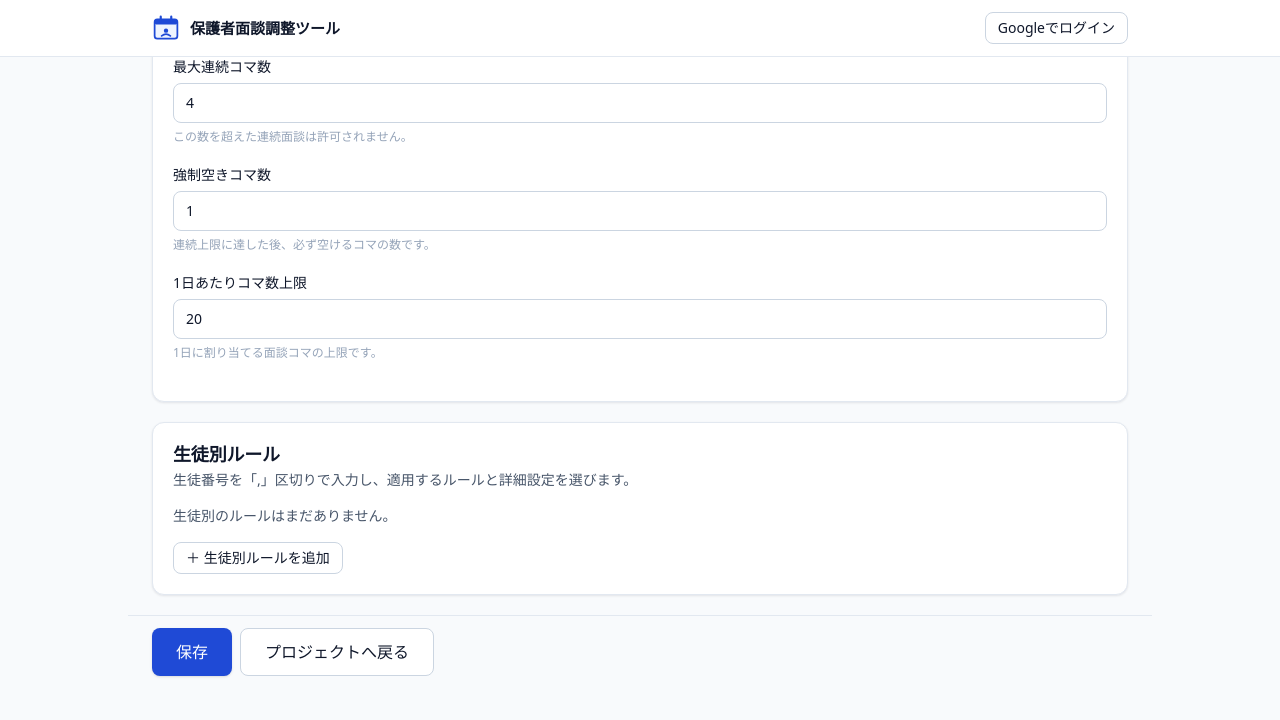
Test: ProjectRulesPage 生徒番号の範囲チェック › プロジェクトに存在しない生徒番号はエラーにして保存しない
The image size is (1280, 720).
(page scrolled)
Click the button "＋ 生徒別ルールを追加": {"x": 258, "y": 558} [173,542,343,574]
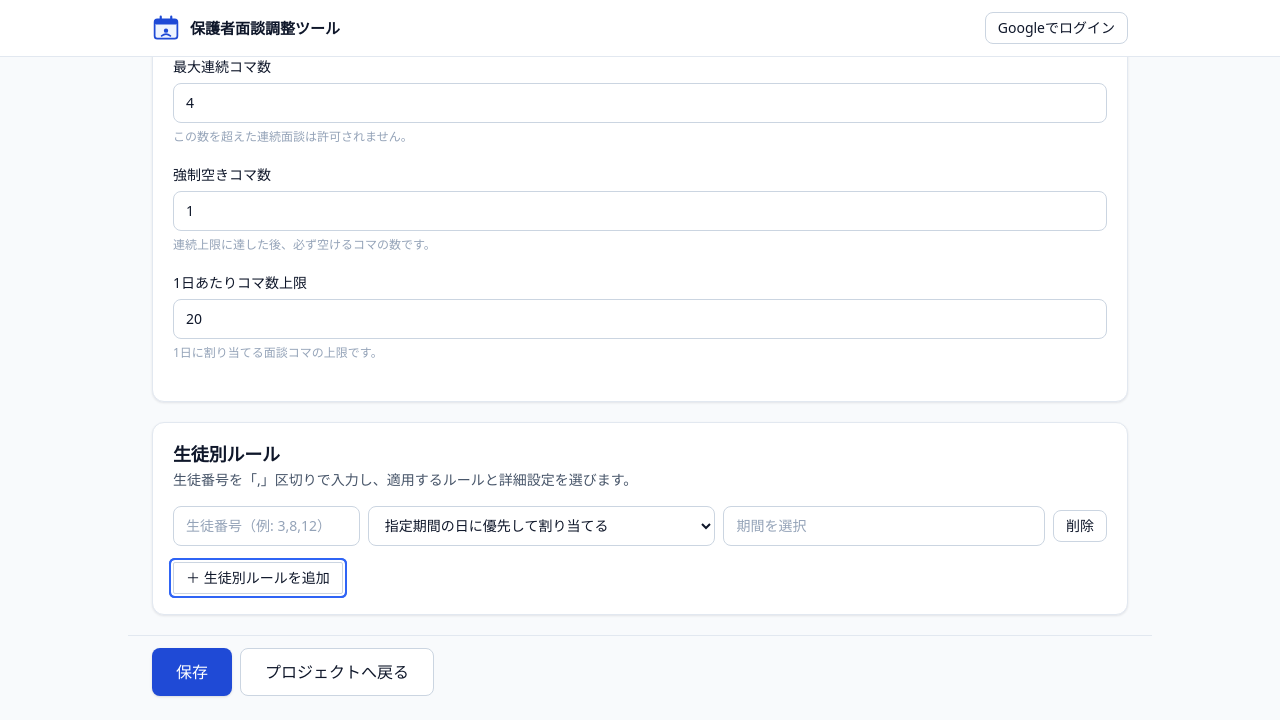
In the field named "1行目 生徒番号（カンマ区切り）": {"x": 266, "y": 526} [173,506,360,546], type "2,99"
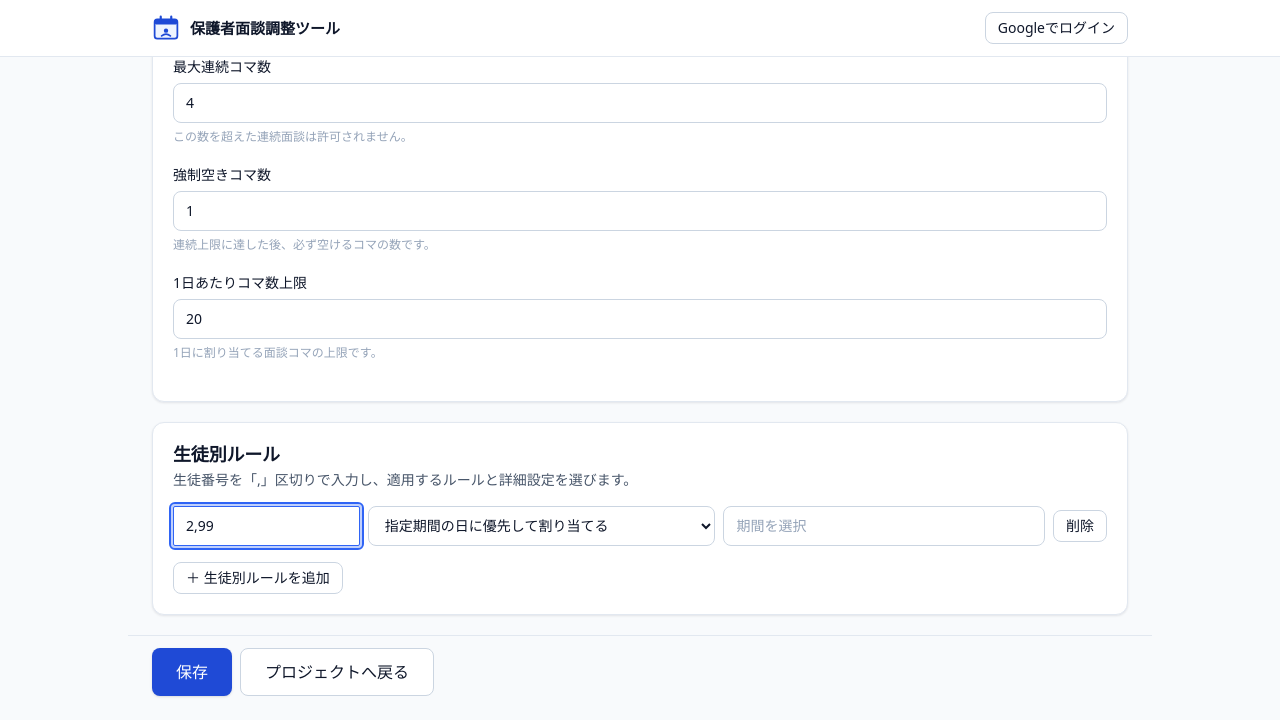
Click the button with aria-label "1行目 優先期間": {"x": 771, "y": 525} [723,506,1045,546]
(page scrolled)
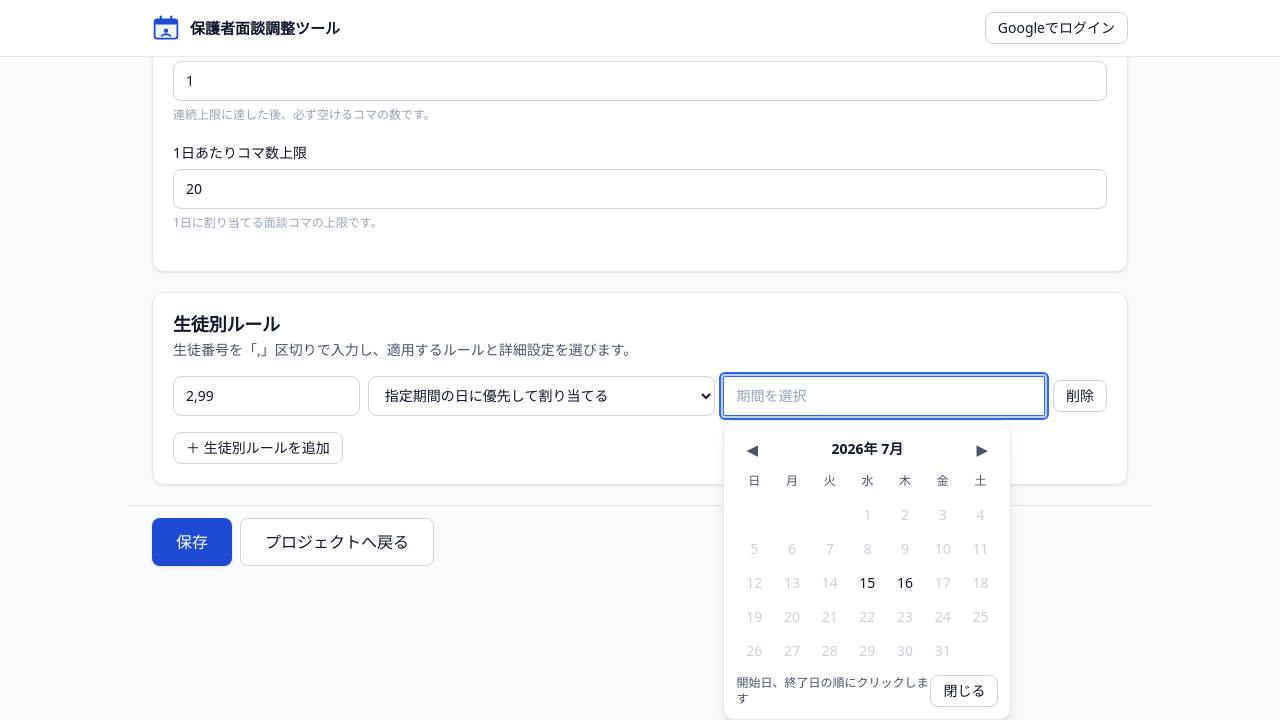
Click the button named "2026-07-15": {"x": 867, "y": 583} [850,567,885,599]
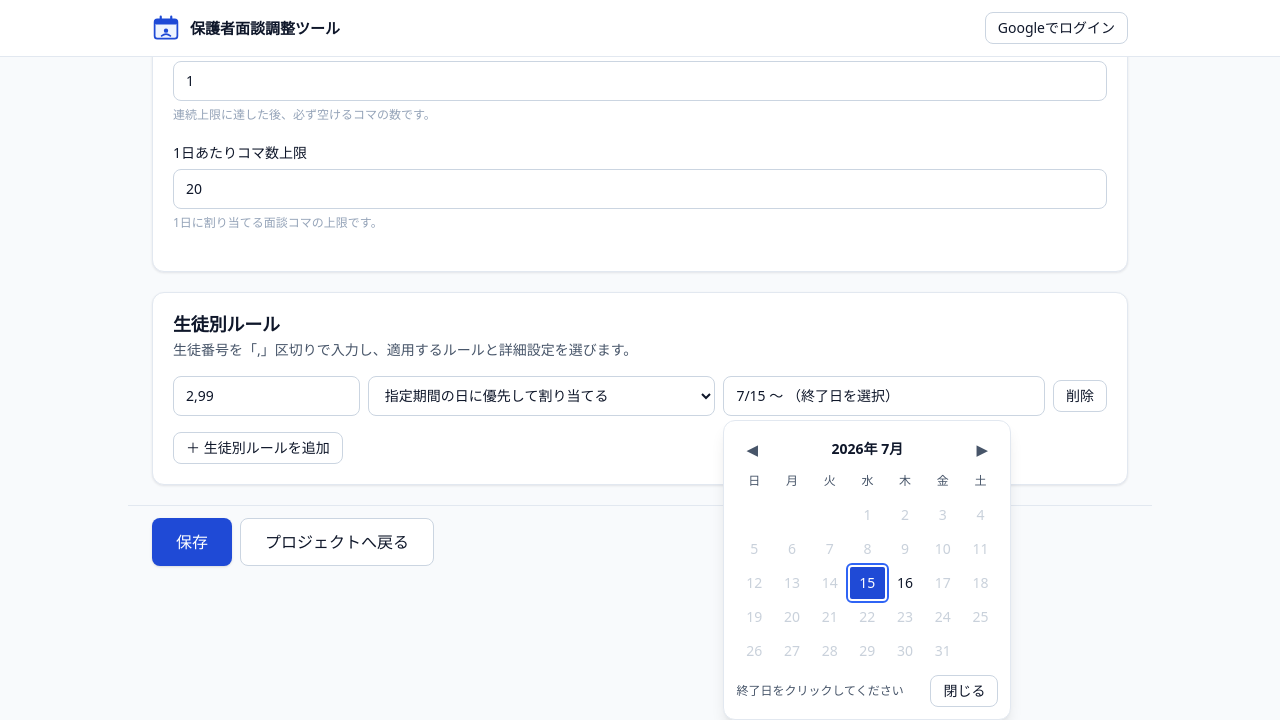
Click the button named "2026-07-16": {"x": 905, "y": 583} [887,567,923,599]
(page scrolled)
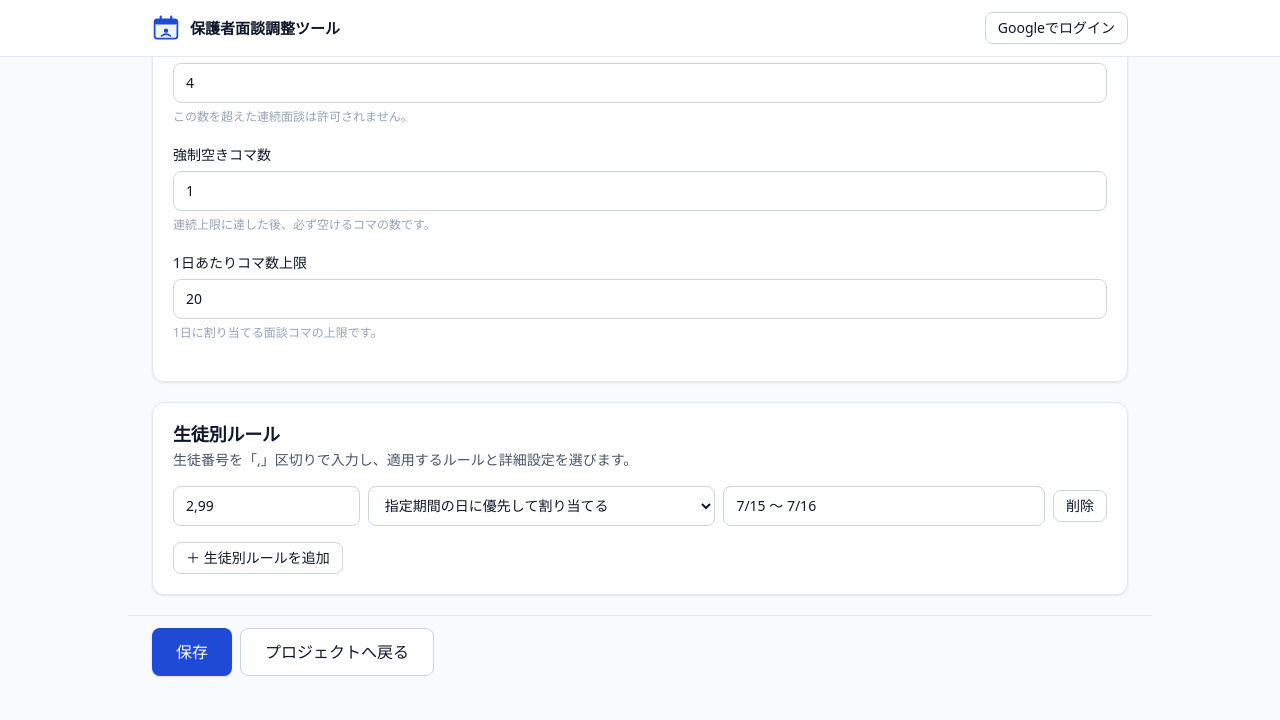
Click the button "保存": {"x": 192, "y": 652} [152,628,232,676]
(page scrolled)
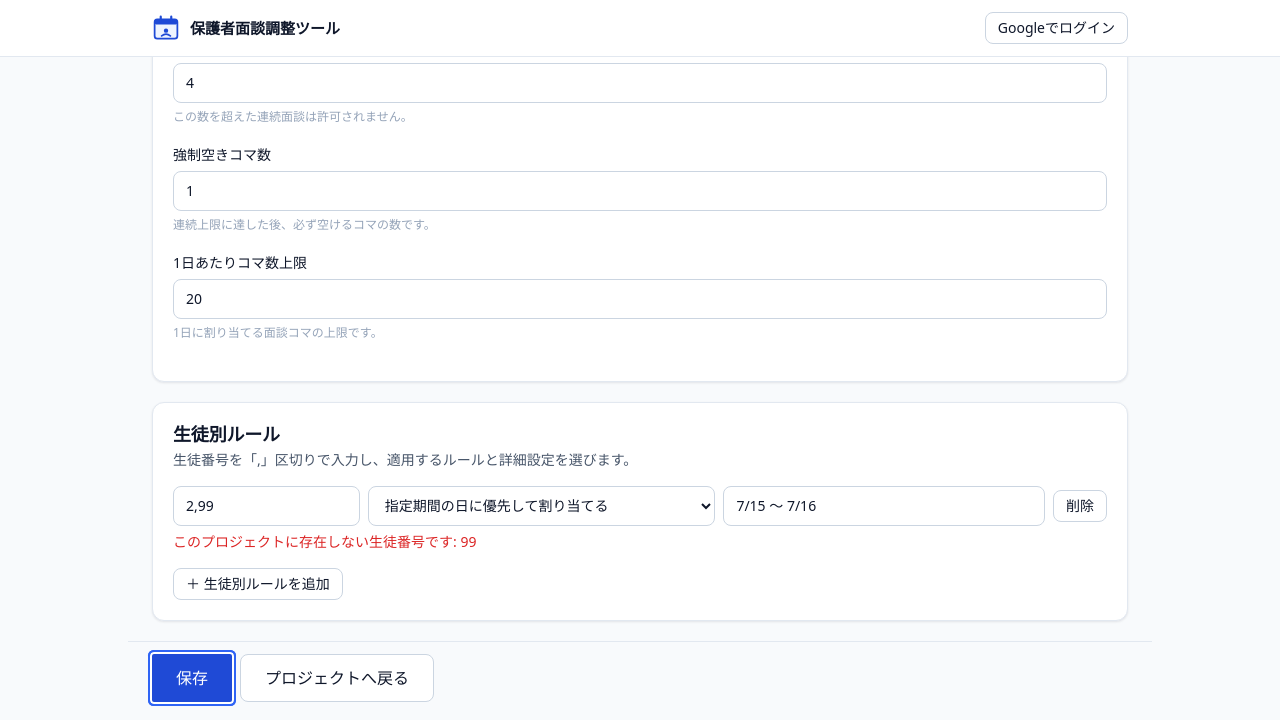
Check: the text "このプロジェクトに存在しない生徒番号です: 99" is shown, box [173,532,476,551]
